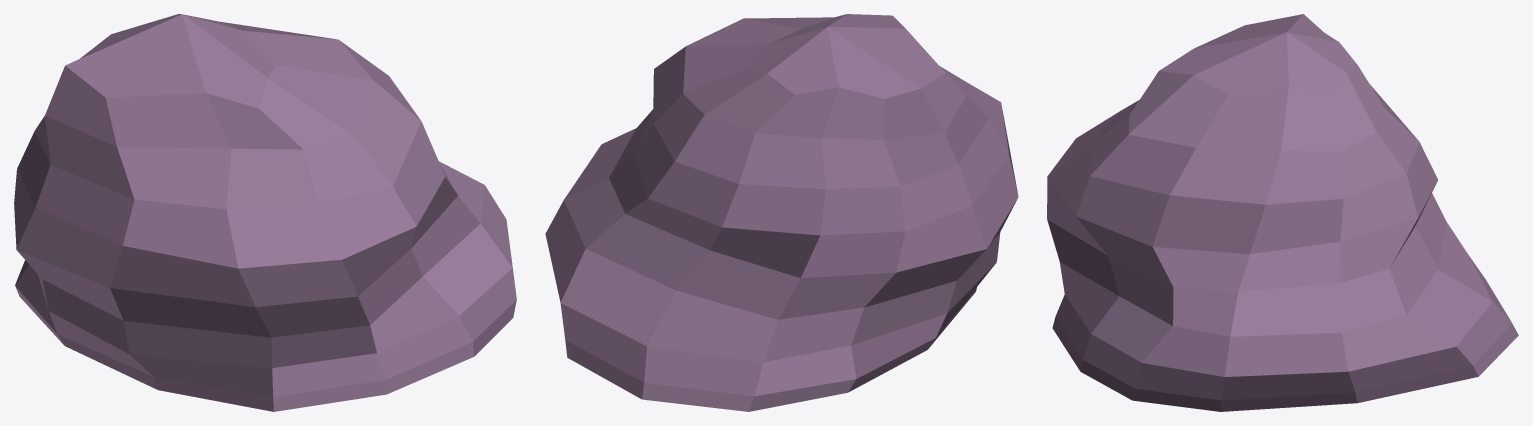
The model's file is boulder_1_v1.fbx.
3 views of the same model, side by side, from view 1: azimuth 30°, elevation 25°; view 2: azimuth 150°, elevation 25°; view 3: azimuth 270°, elevation 25° (orthographic). The views are drawn at different scales.
Parts seen in each view (by area): view 1: boulder_1; view 2: boulder_1; view 3: boulder_1.
Part boxes in pixels (bbox=[...]): boulder_1: bbox=[14, 14, 516, 411]; boulder_1: bbox=[545, 14, 1018, 411]; boulder_1: bbox=[1047, 14, 1518, 411].
Bounding box in the file's own units: 12 × 8 × 12.19.
